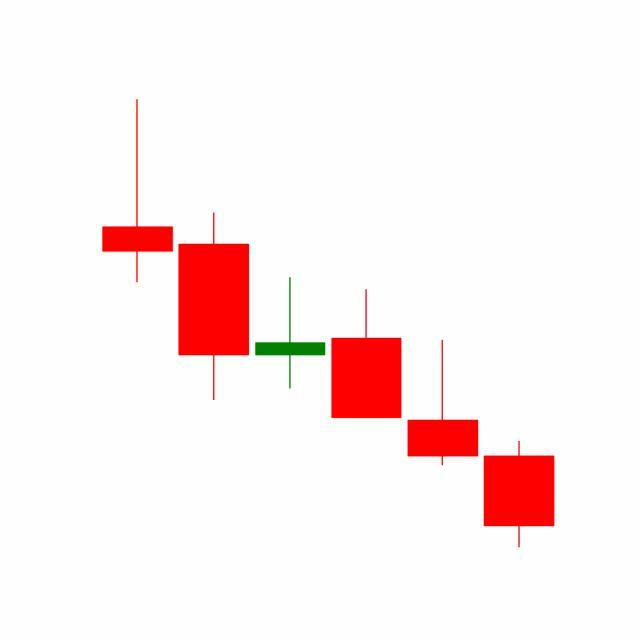Three Outside Up-Down: (252, 276, 482, 468)
